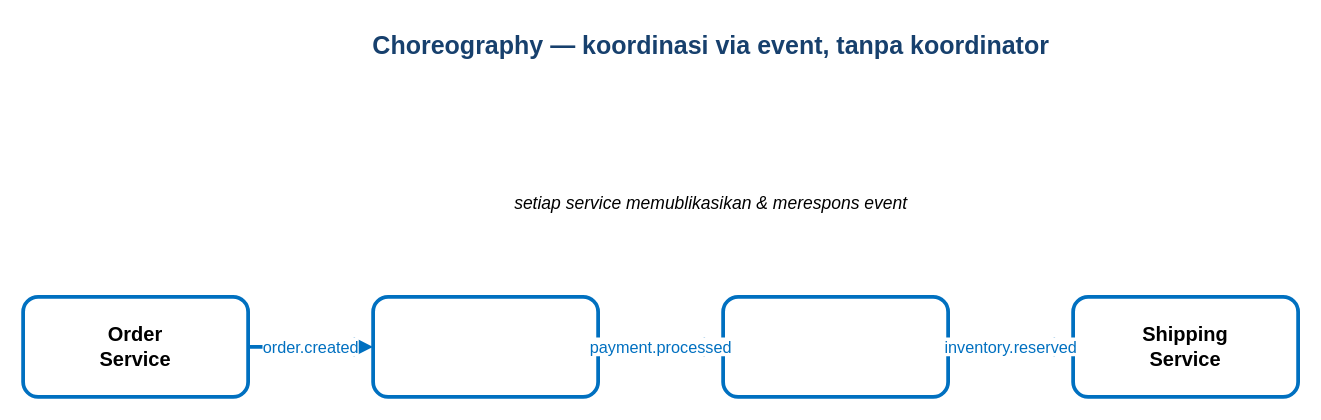
Image size: 1321x420. Some labels were removed from this diagram. The shapes that lost their labels are listed below. From the top down, each one's centre as x and y in pixels, then its label:
At point (485, 346): "Payment Service".
At point (835, 346): "Inventory Service".
